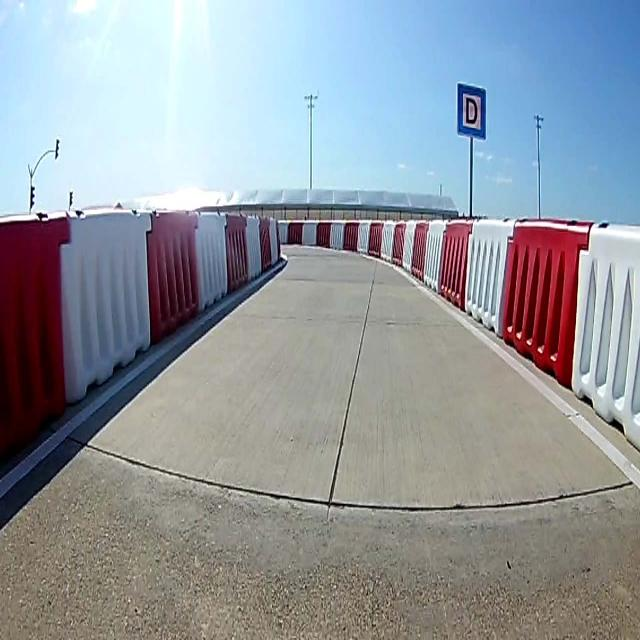durak: (456, 82, 485, 138)
